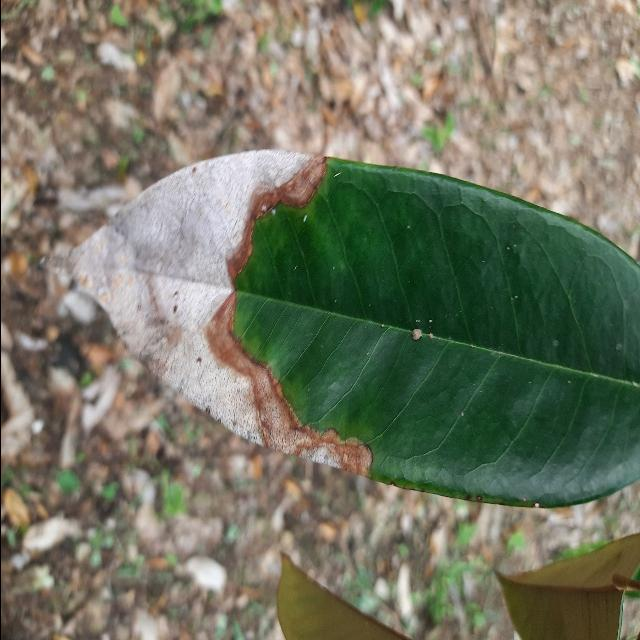Leaf Blight: (56, 141, 640, 513)
